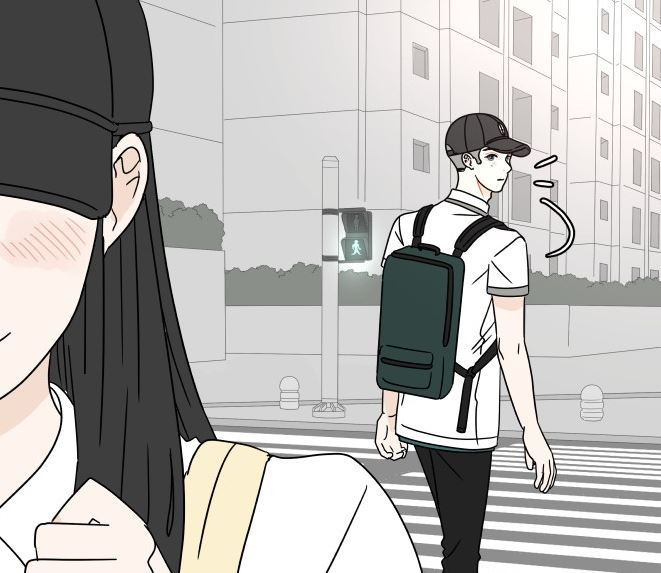hat: (445, 112, 534, 159)
